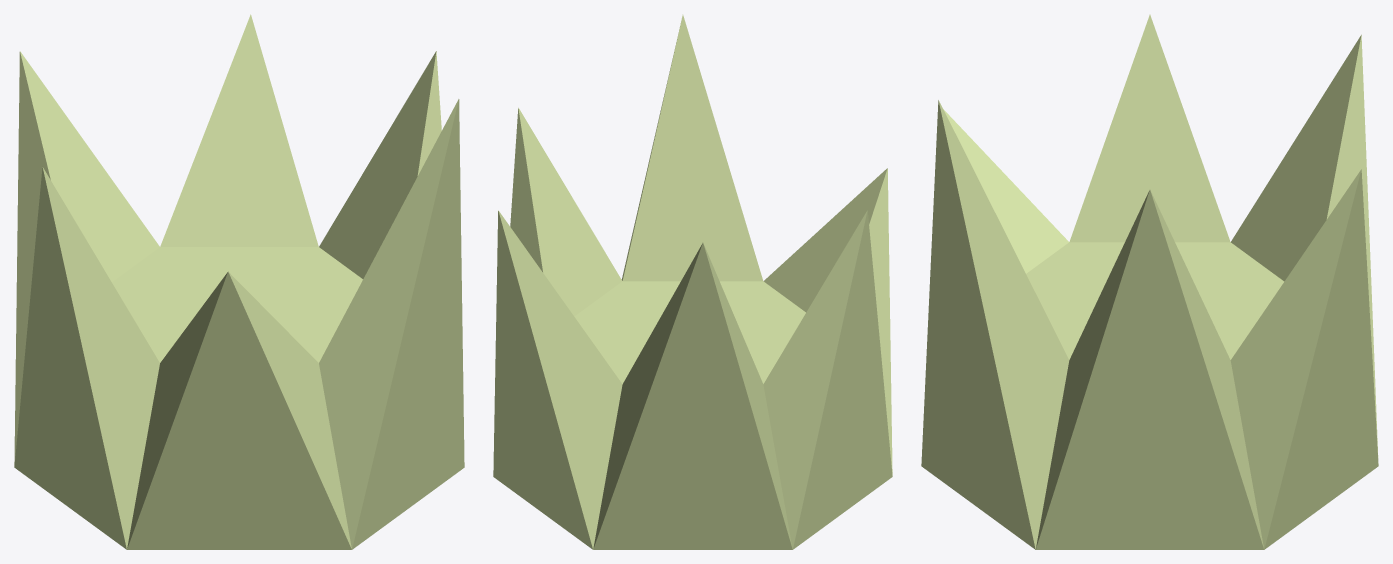
The model's file is Grass Tuft 1.fbx.
The picture shows the model from 3 angles, left to right: view 1: azimuth 30°, elevation 25°; view 2: azimuth 150°, elevation 25°; view 3: azimuth 270°, elevation 25°; orthographic projection. The views are drawn at different scales.
Parts seen in each view (by area): view 1: Grass Tuft 1; view 2: Grass Tuft 1; view 3: Grass Tuft 1.
Part boxes in pixels (left/top/right/bottom): Grass Tuft 1: left=14, top=14, right=464, bottom=549; Grass Tuft 1: left=493, top=14, right=892, bottom=549; Grass Tuft 1: left=921, top=14, right=1378, bottom=549.
Bounding box in the file's own units: 0.1133 × 0.1147 × 0.1121.
